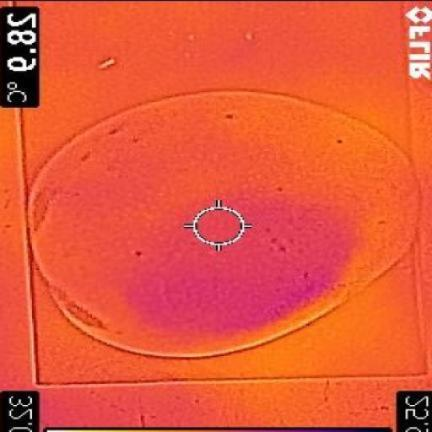mango: (32, 91, 417, 352)
